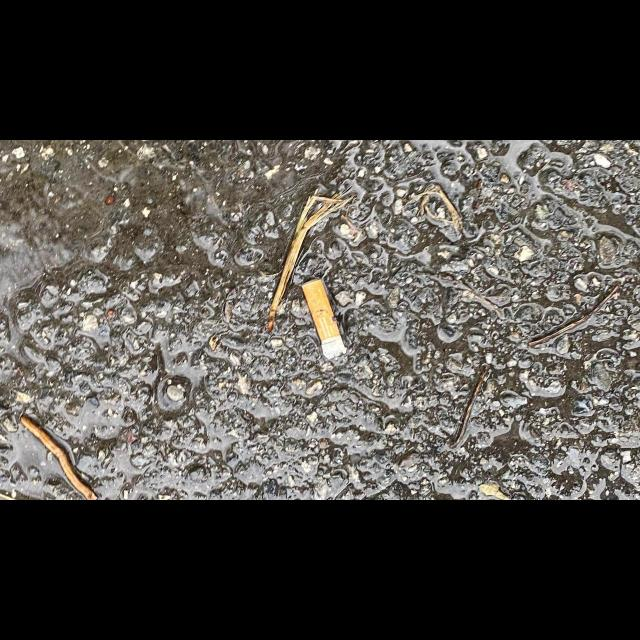cigarette: (301, 278, 347, 360)
